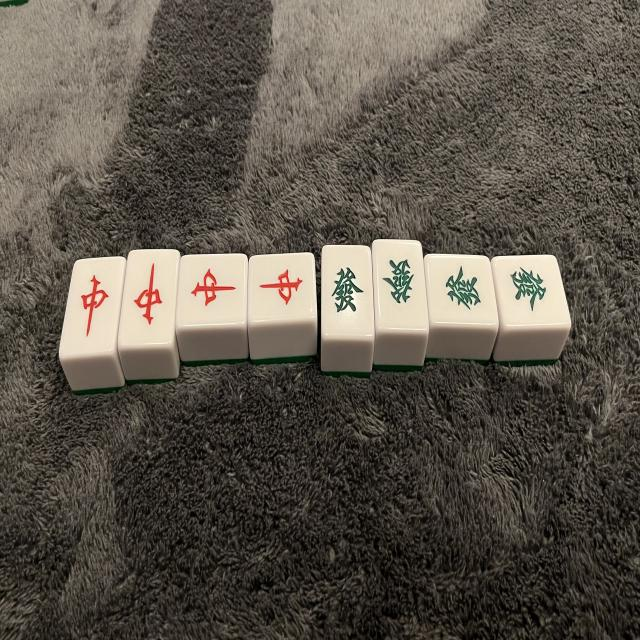fa: (373, 241, 428, 330), (323, 246, 375, 337), (427, 257, 493, 324), (497, 260, 561, 326)
zhong: (61, 261, 122, 357), (120, 254, 177, 346), (179, 258, 247, 325), (249, 255, 316, 322)
